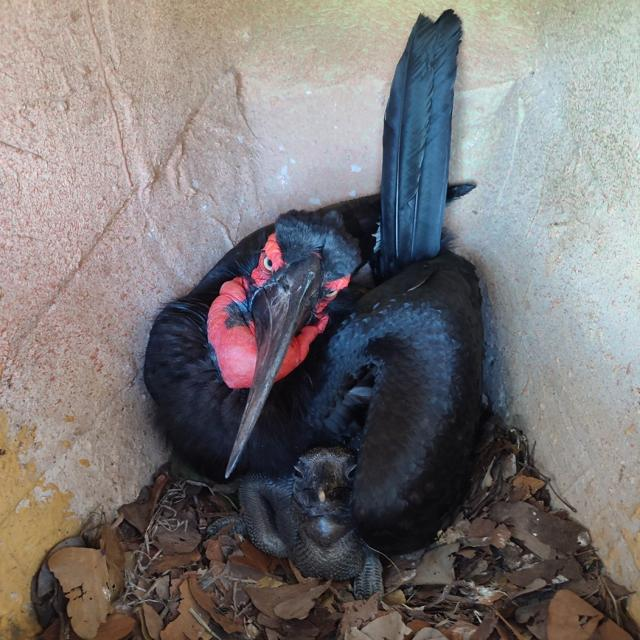Hornbill: (155, 38, 484, 575)
